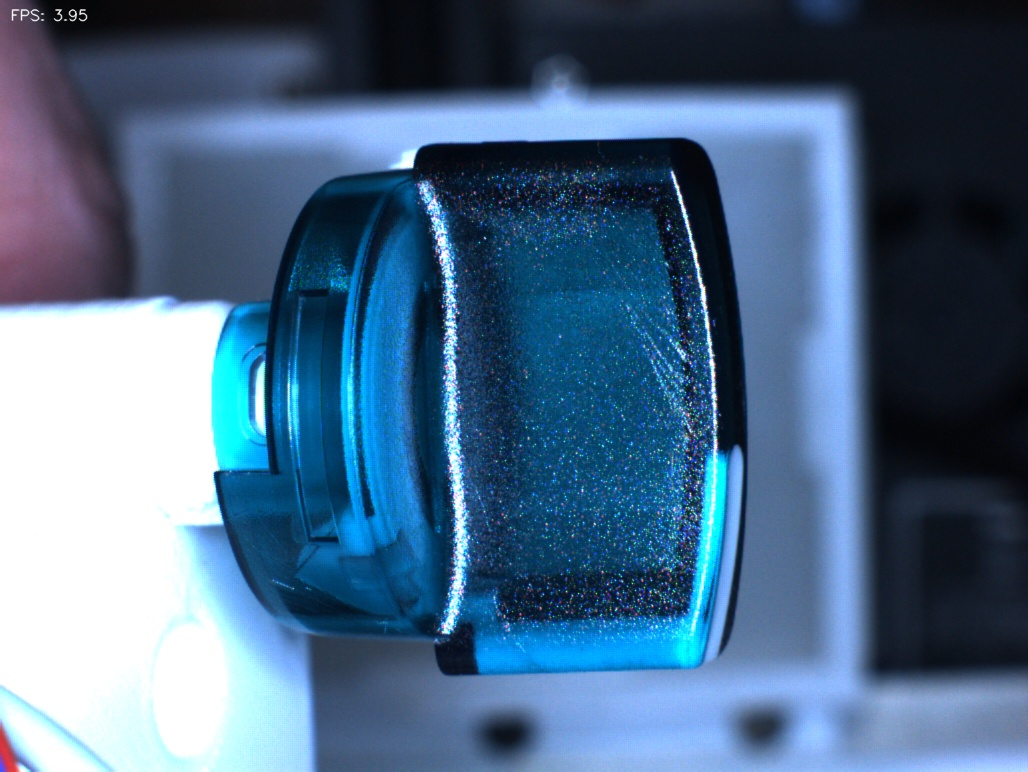Givrage: (607, 264, 712, 430)
